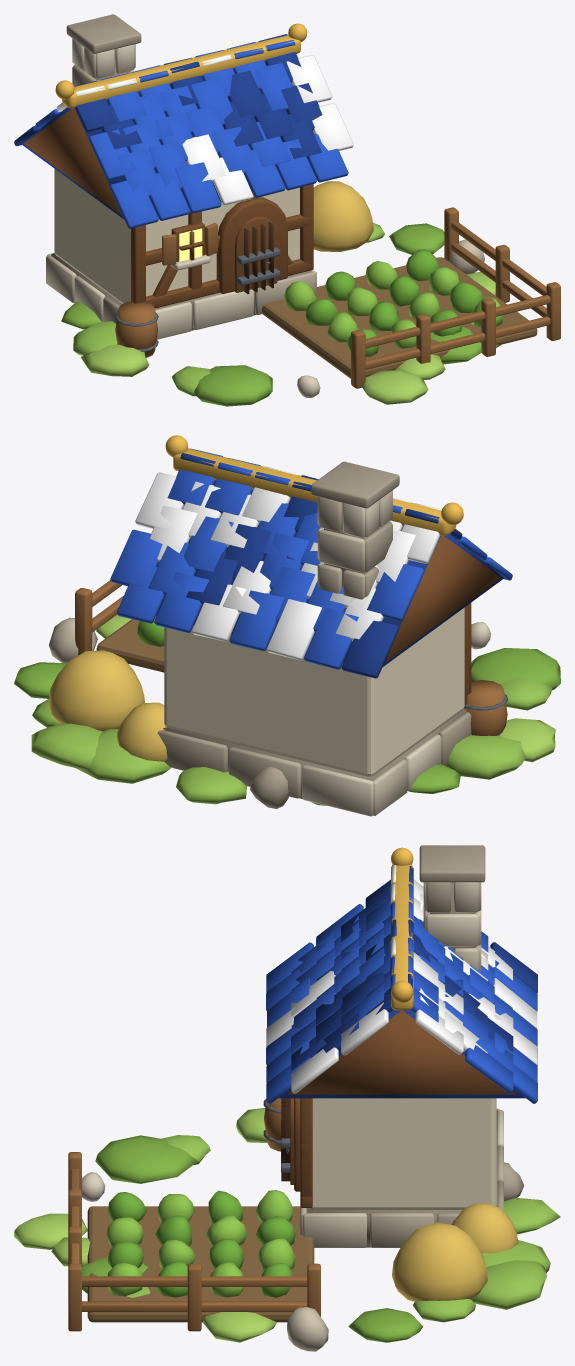
File: b_farm.glb
3 views of the same model, one above another, from view 1: azimuth 30°, elevation 25°; view 2: azimuth 150°, elevation 25°; view 3: azimuth 270°, elevation 25° (orthographic). The views are drawn at different scales.
Parts seen in each view (by area): view 1: root_team, root_matte#7a4e2a, root_matte#9a6a3c, cottage, root_team_dark, field, root_matte#d6ccb6, root_matte#7fb243, root_team_light, root_matte#6fae3a, root_matte#8cc44a, root_matte#a8d060 (+11 smaller); view 2: cottage, root_team, root_team_light, root_matte#94c252, root_matte#a99e8a, root_matte#e0bd5a, root_team_dark, root_matte#7a4e2a, root_matte#d6ccb6, root_matte#7fb243, root_matte#c9bea8, root_gold#f0bd4c (+7 smaller); view 3: cottage, root_team, root_matte#7a4e2a, field, root_team_light, root_matte#9a6a3c, root_matte#e0bd5a, root_team_dark, root_matte#94c252, root_matte#8cc44a, root_matte#6fae3a, root_matte#7fb243 (+9 smaller).
Boxes of the visible parts, x1,y1,x2,y2 form: root_team: [35, 40, 348, 228]; root_matte#7a4e2a: [24, 108, 313, 308]; root_matte#9a6a3c: [162, 207, 560, 388]; cottage: [54, 168, 299, 303]; root_team_dark: [14, 34, 322, 218]; field: [262, 257, 537, 378]; root_matte#d6ccb6: [47, 38, 320, 398]; root_matte#7fb243: [61, 223, 481, 406]; root_team_light: [56, 54, 353, 205]; root_matte#6fae3a: [305, 249, 482, 356]; root_matte#8cc44a: [284, 261, 503, 348]; root_matte#a8d060: [80, 271, 495, 404]; cottage: [164, 607, 464, 776]; root_team: [110, 448, 512, 669]; root_team_light: [135, 466, 441, 660]; root_matte#94c252: [31, 677, 552, 804]; root_matte#a99e8a: [157, 461, 471, 808]; root_matte#e0bd5a: [48, 650, 167, 761]; root_team_dark: [156, 453, 503, 678]; root_matte#7a4e2a: [385, 535, 501, 705]; root_matte#d6ccb6: [302, 500, 490, 816]; root_matte#7fb243: [14, 648, 560, 805]; root_matte#c9bea8: [49, 490, 407, 815]; root_gold#f0bd4c: [165, 435, 463, 535]; cottage: [309, 1098, 496, 1209]; root_team: [266, 883, 537, 1103]; root_matte#7a4e2a: [287, 1010, 516, 1207]; field: [87, 1206, 314, 1322]; root_team_light: [266, 865, 537, 1093]; root_matte#9a6a3c: [68, 1152, 320, 1331]; root_matte#e0bd5a: [392, 1203, 518, 1301]; root_team_dark: [278, 866, 537, 1098]; root_matte#94c252: [126, 1135, 560, 1322]; root_matte#8cc44a: [106, 1190, 295, 1297]; root_matte#6fae3a: [108, 1190, 295, 1297]; root_matte#7fb243: [82, 1135, 423, 1342].
Size of the model in its own units: 2.2 by 1.4 by 2.17.
